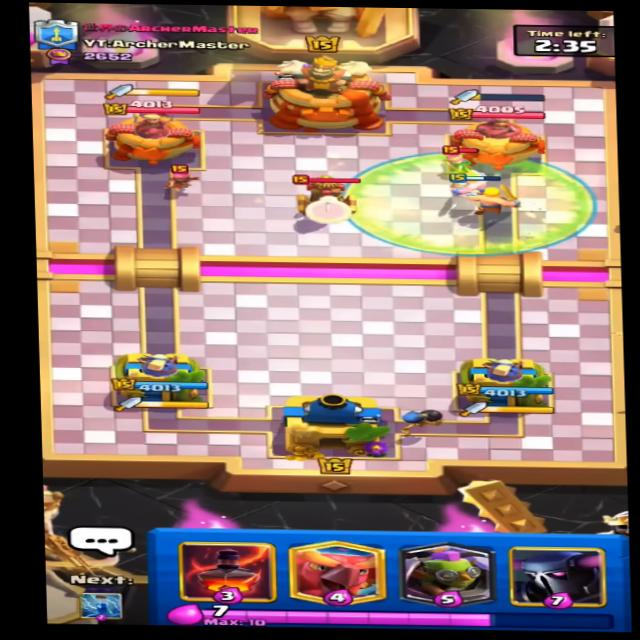archer: (156, 164, 205, 192), (439, 142, 481, 173)
tesla: (282, 168, 372, 219)
